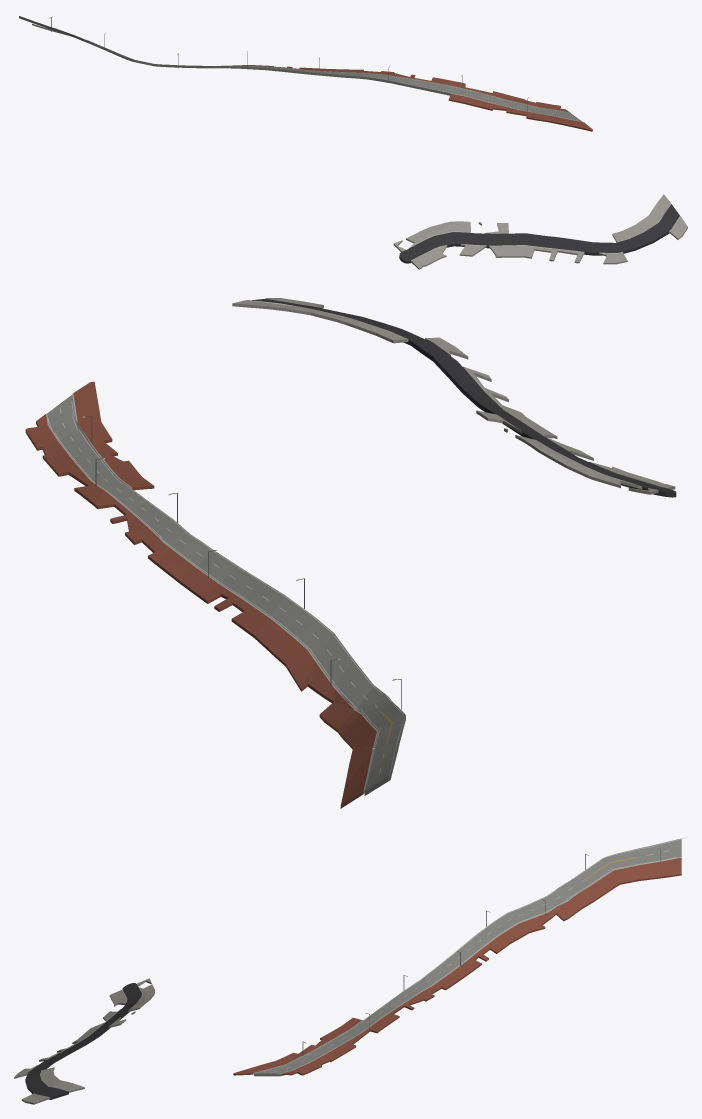
The picture shows the model from 3 angles, top to bottom: view 1: azimuth 30°, elevation 25°; view 2: azimuth 150°, elevation 25°; view 3: azimuth 270°, elevation 25°; orthographic projection. The views are drawn at different scales.
Bounding box in the file's own units: 188 × 45.39 × 286.
